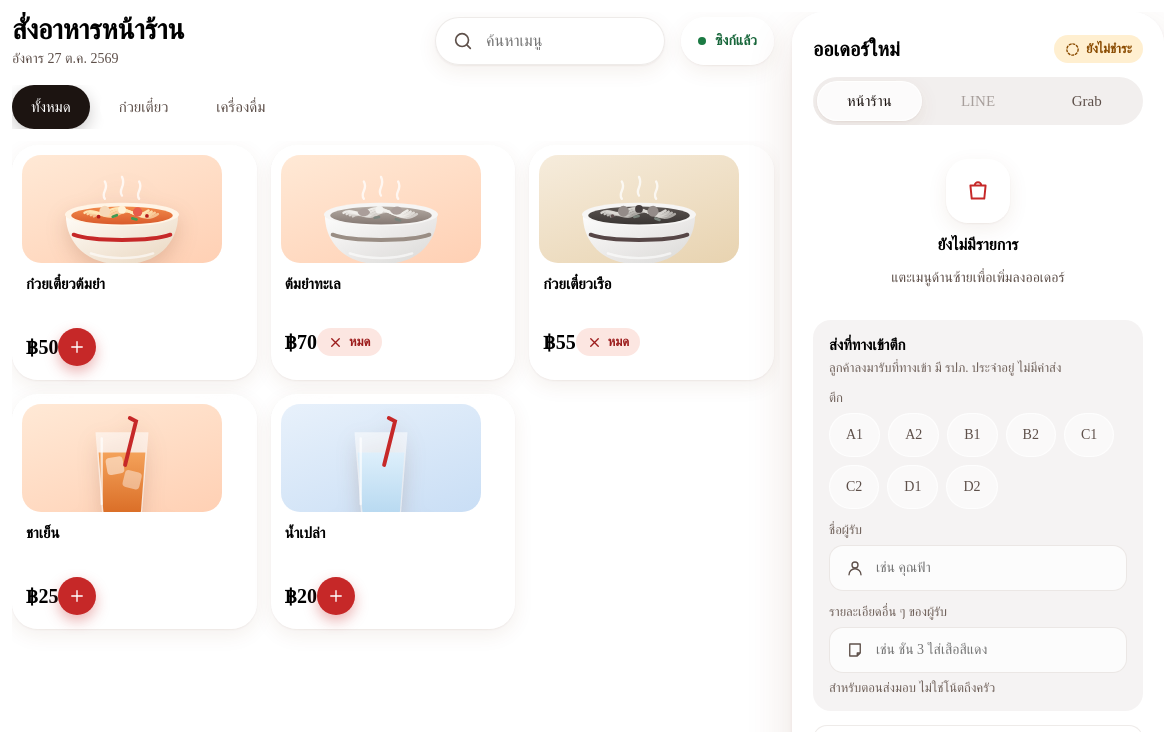
Test: the menu › search finds a dish by Thai or English name
Step 1. Type "tea" into the search field → (566, 41), box [484,31,648,51]
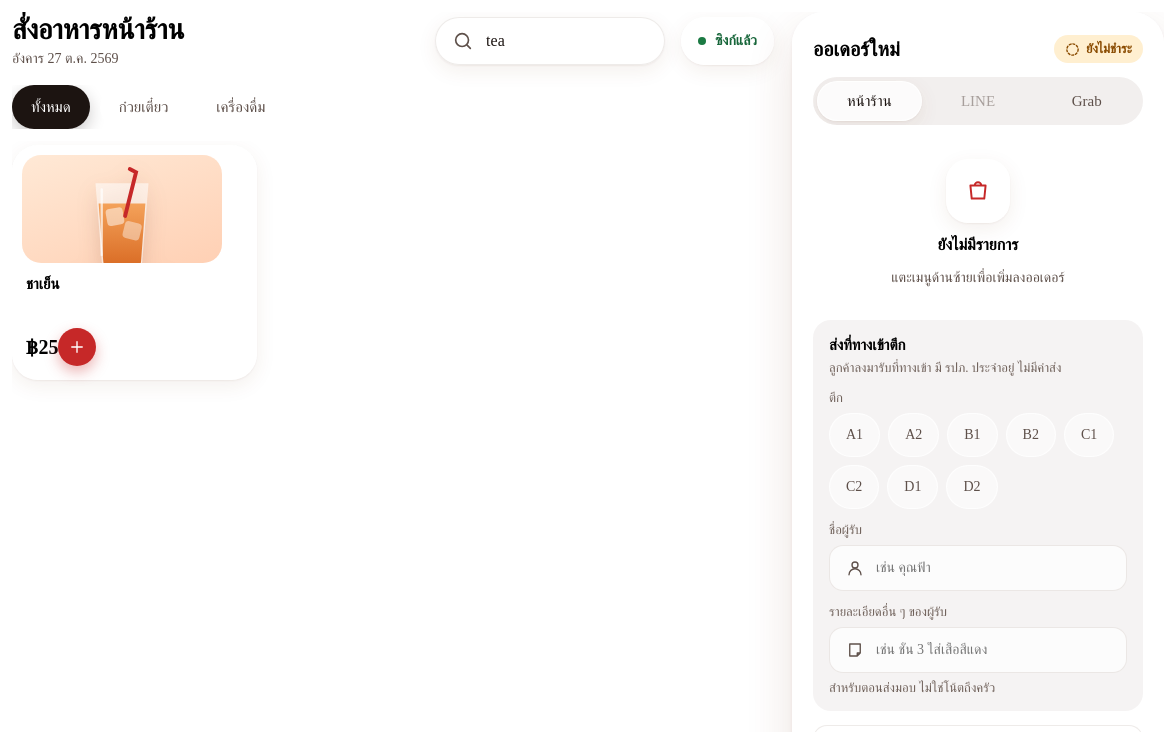
expect the text "ชาเย็น" is shown: met, box [26,276,60,292]
expect the button "ก๋วยเตี๋ยวต้มยำ" is gone: met
Step 2. Replace the text in the search field with "ไม่มีเมนูนี้" → (566, 41), box [484,31,648,51]
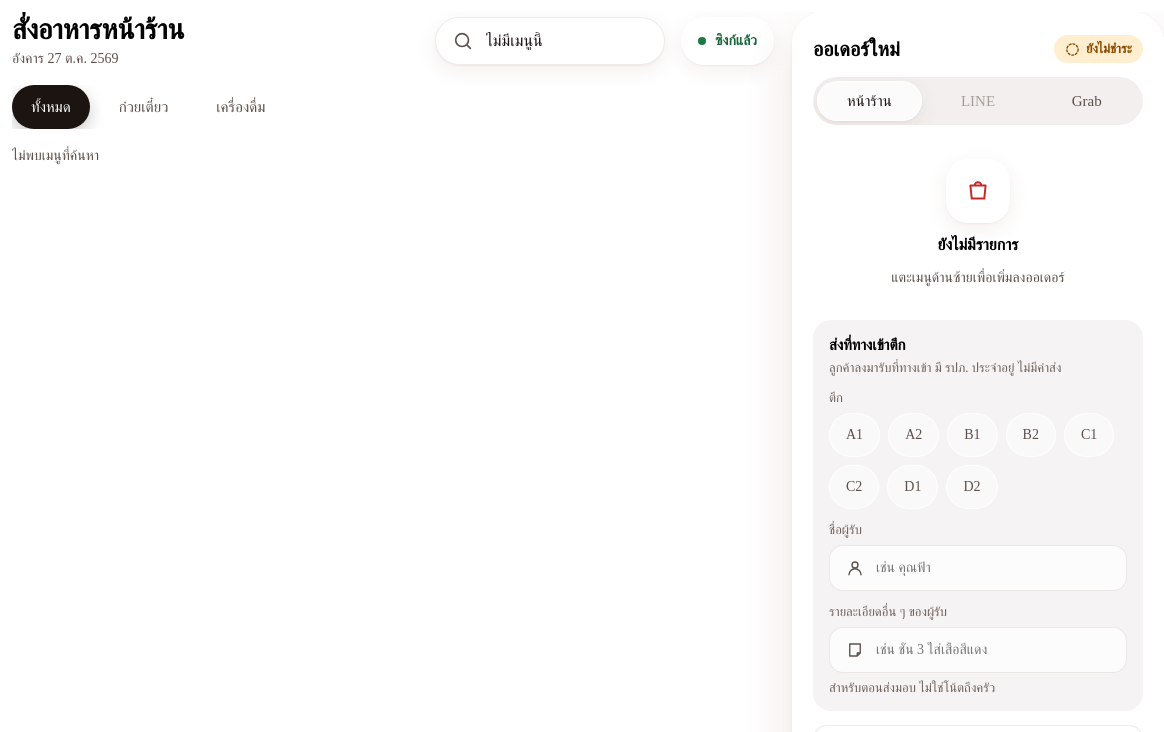
expect the text "ไม่พบเมนูที่ค้นหา" is shown: met, box [12,148,99,163]
